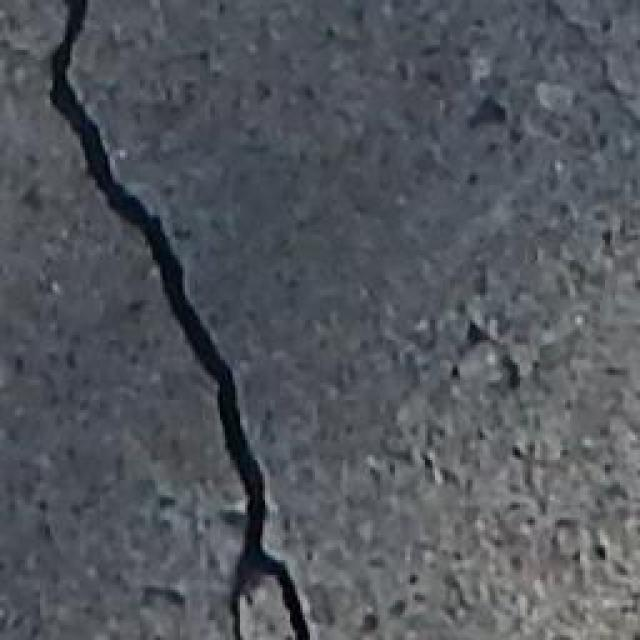concrete-crack: (42, 0, 320, 640)
